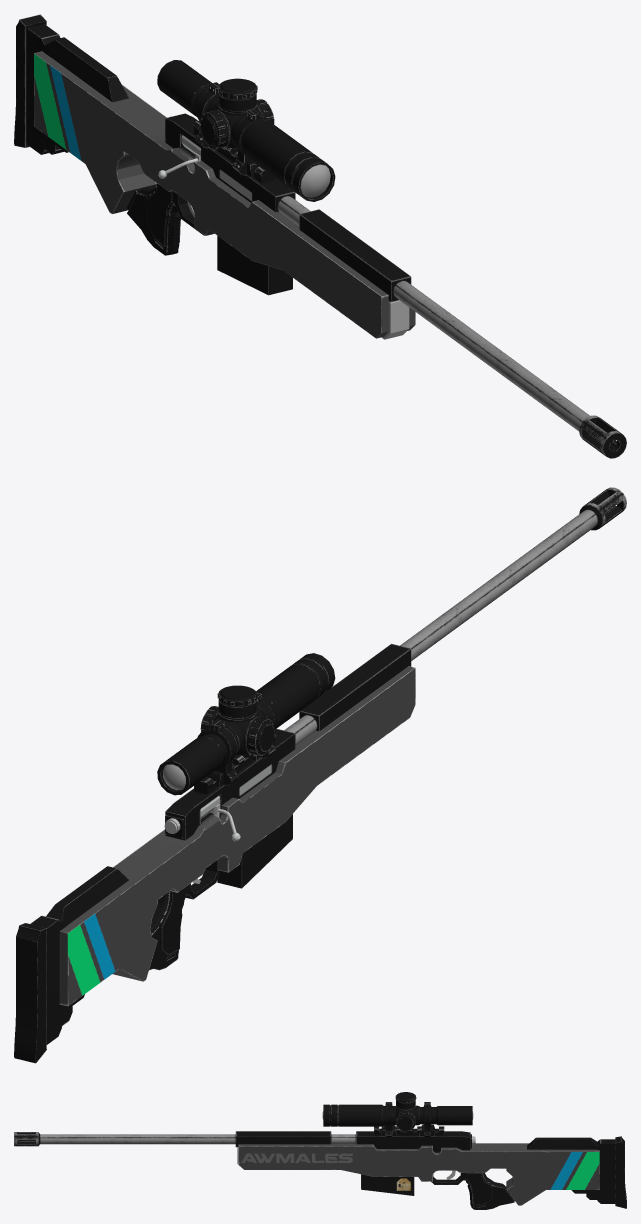
The model's file is vector.glb.
3 views of the same model, one above another, from view 1: azimuth 30°, elevation 25°; view 2: azimuth 150°, elevation 25°; view 3: azimuth 270°, elevation 25° (orthographic). The views are drawn at different scales.
Visible parts, largest first — view 1: 2_WPN1_SR_AWMales_2_MAT_0, 1_WPN1_SR_AWMales_1_MAT_0, Scope, 4_WPN1_SR_AWMales_4_MAT_0, Ammo, 3_WPN1_SR_AWMales_3_MAT_0; view 2: 2_WPN1_SR_AWMales_2_MAT_0, 1_WPN1_SR_AWMales_1_MAT_0, 4_WPN1_SR_AWMales_4_MAT_0, Scope, Ammo, 3_WPN1_SR_AWMales_3_MAT_0; view 3: 2_WPN1_SR_AWMales_2_MAT_0, 1_WPN1_SR_AWMales_1_MAT_0, 4_WPN1_SR_AWMales_4_MAT_0, Scope, Ammo.
Boxes of the visible parts, x1,y1,x2,y2 form: 2_WPN1_SR_AWMales_2_MAT_0: [34, 51, 415, 338]; 1_WPN1_SR_AWMales_1_MAT_0: [165, 113, 626, 458]; Scope: [157, 60, 335, 201]; 4_WPN1_SR_AWMales_4_MAT_0: [14, 14, 204, 255]; Ammo: [217, 236, 292, 295]; 3_WPN1_SR_AWMales_3_MAT_0: [158, 116, 409, 339]; 2_WPN1_SR_AWMales_2_MAT_0: [59, 666, 415, 1006]; 1_WPN1_SR_AWMales_1_MAT_0: [165, 487, 626, 840]; 4_WPN1_SR_AWMales_4_MAT_0: [14, 860, 219, 1063]; Scope: [157, 653, 335, 795]; Ammo: [217, 814, 292, 888]; 3_WPN1_SR_AWMales_3_MAT_0: [164, 764, 271, 883]; 2_WPN1_SR_AWMales_2_MAT_0: [238, 1143, 599, 1205]; 1_WPN1_SR_AWMales_1_MAT_0: [14, 1126, 471, 1152]; 4_WPN1_SR_AWMales_4_MAT_0: [431, 1136, 626, 1209]; Scope: [322, 1092, 473, 1136]; Ammo: [361, 1174, 414, 1195].
Size of the model in its own units: 31.88 by 93.97 by 463.
Materials: 6 (6 with a texture image).
